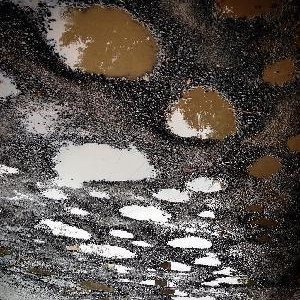pothole: (32, 1, 164, 86), (44, 138, 162, 188), (160, 86, 239, 146), (191, 0, 291, 36), (252, 55, 300, 97), (64, 241, 139, 262), (241, 152, 284, 183), (35, 220, 94, 242), (197, 269, 252, 291), (116, 206, 174, 226), (182, 173, 229, 194), (0, 69, 26, 102), (164, 236, 211, 253), (149, 187, 191, 204), (155, 260, 196, 273), (192, 256, 223, 268), (108, 228, 134, 240), (284, 135, 300, 154), (196, 209, 216, 221)
